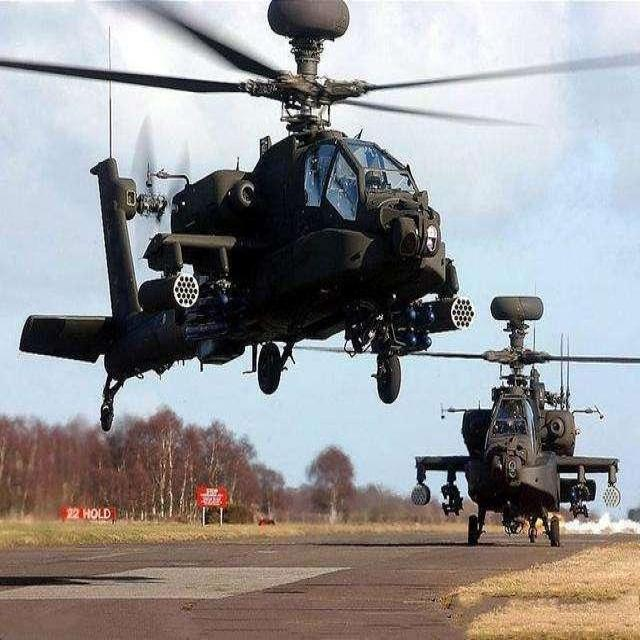MIL_HELO: (0, 0, 640, 408), (290, 275, 640, 550)
